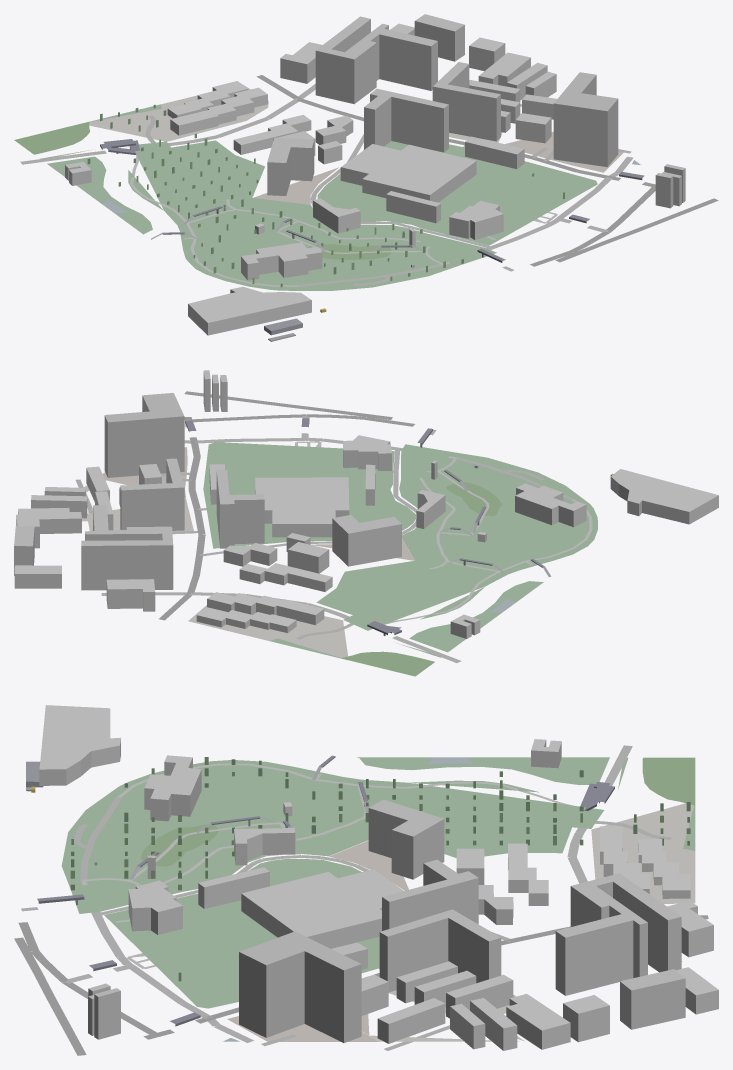
The picture shows the model from 3 angles, top to bottom: view 1: azimuth 30°, elevation 25°; view 2: azimuth 150°, elevation 25°; view 3: azimuth 270°, elevation 25°; orthographic projection. The views are drawn at different scales.
Size of the model in its own units: 587 by 73.53 by 527.
